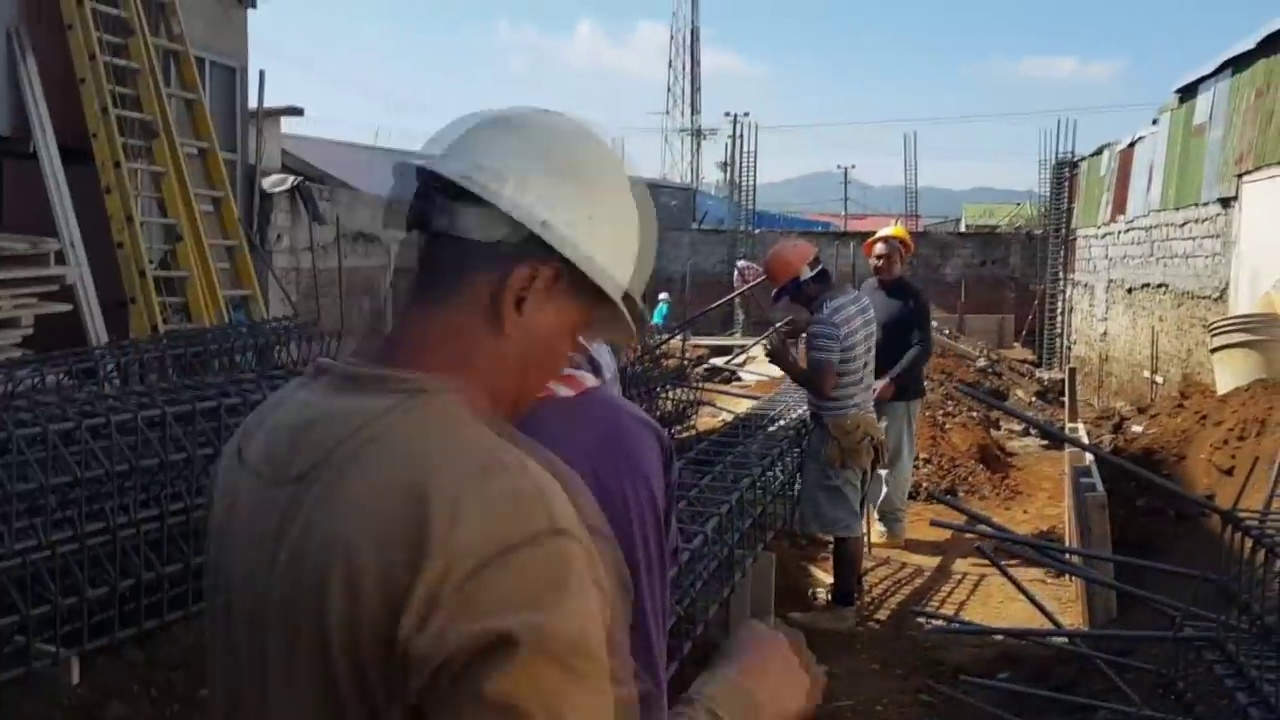helmet: (396, 111, 640, 322), (762, 239, 821, 290), (864, 224, 915, 258), (658, 292, 672, 301)
helmet-off: (735, 247, 750, 262)
helmet-on: (309, 107, 643, 418), (761, 240, 833, 317), (865, 224, 914, 285), (657, 291, 673, 305)
person: (199, 111, 708, 720), (755, 240, 878, 649), (865, 226, 932, 546), (733, 246, 761, 339), (649, 291, 673, 329)
